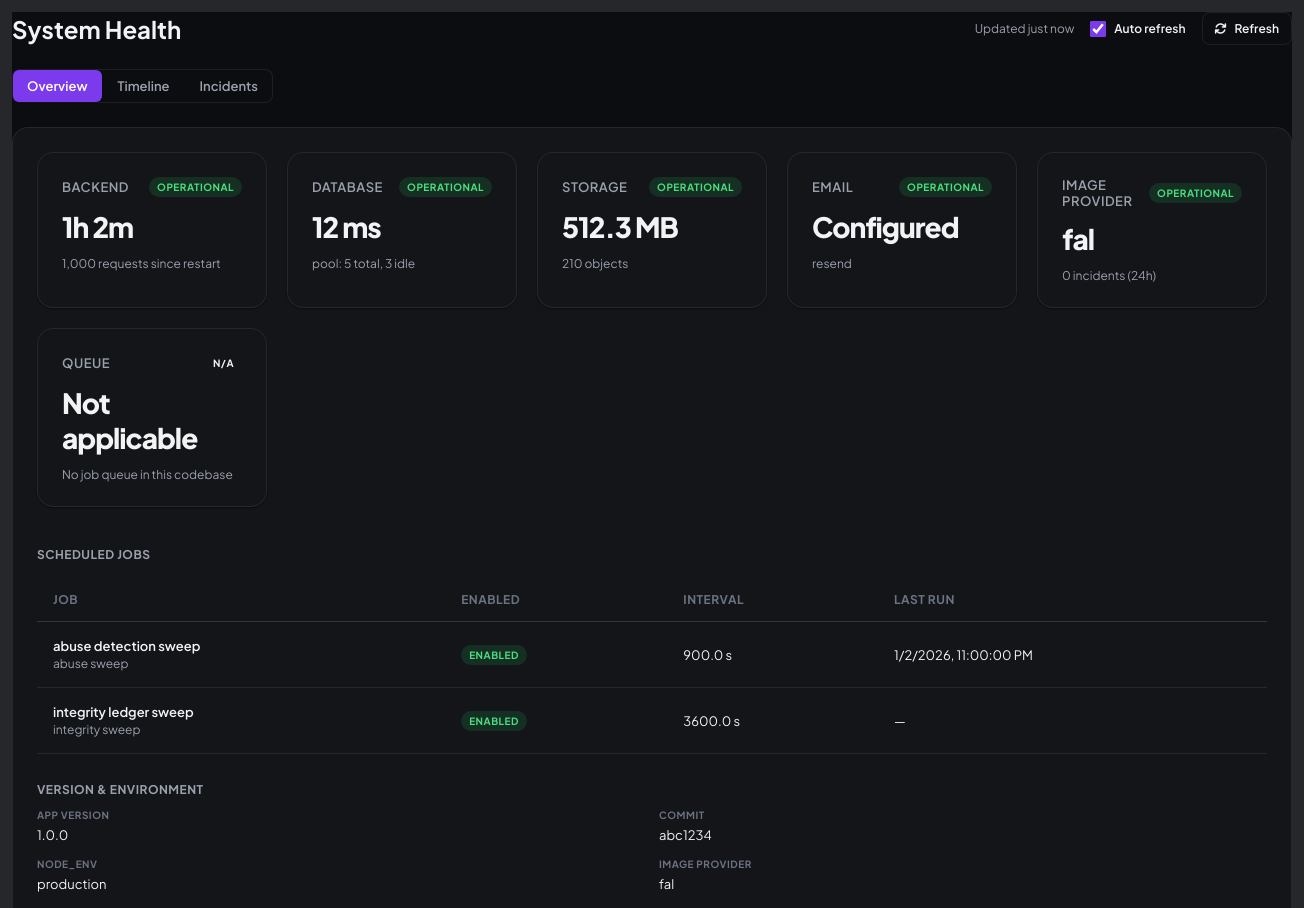
Test: SystemHealthPage - Overview › shows an inline error banner but keeps stale data visible when a refresh fails
Expected: the text "Backend" is shown, [62,179,129,195]
Click the button "Refresh".
click(1247, 28)  # box [1202,12,1292,45]
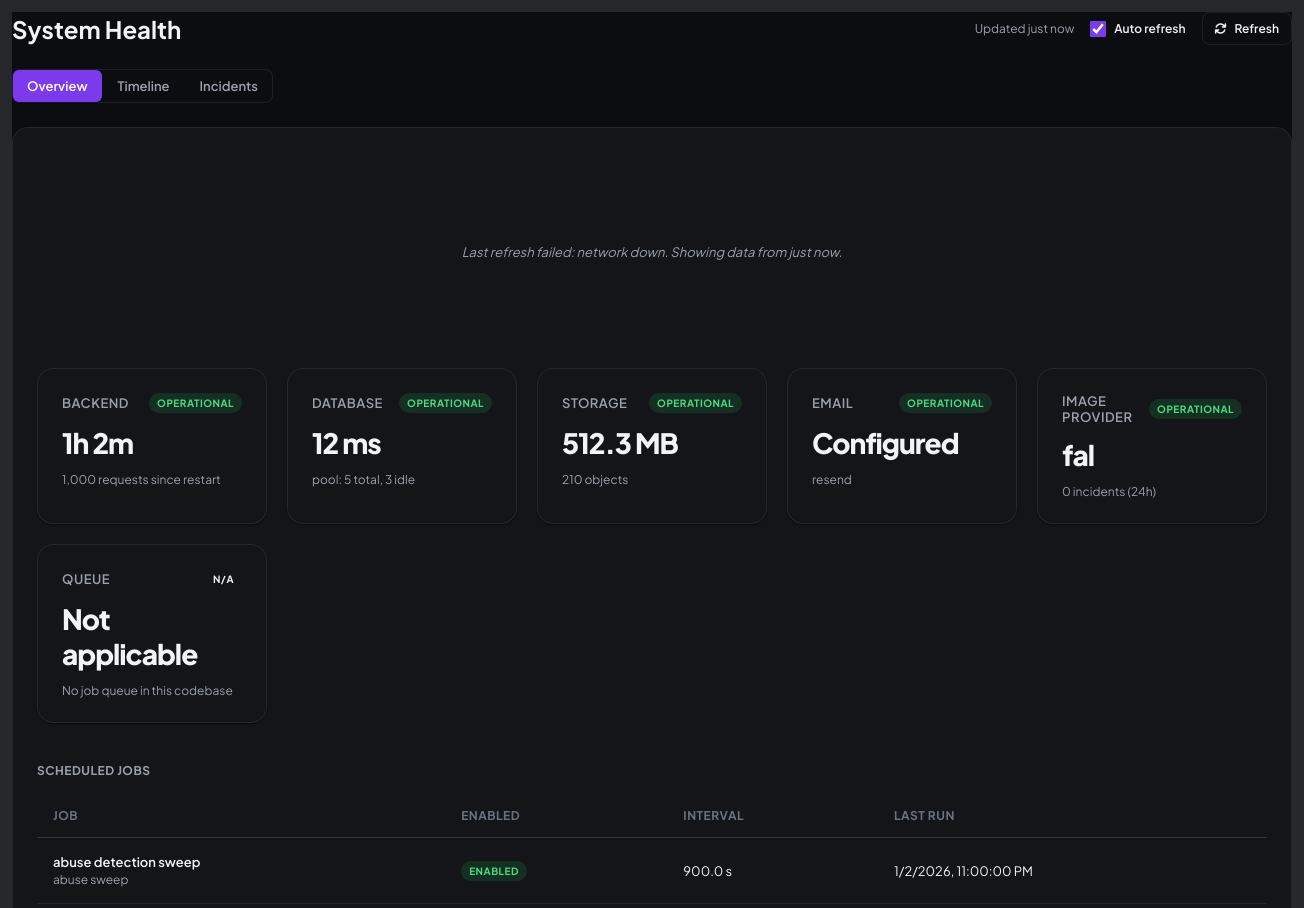
Expected: the text "Backend" is shown, [62,395,129,411]
Expected: the text "Last refresh failed" is shown, [462,244,842,260]
